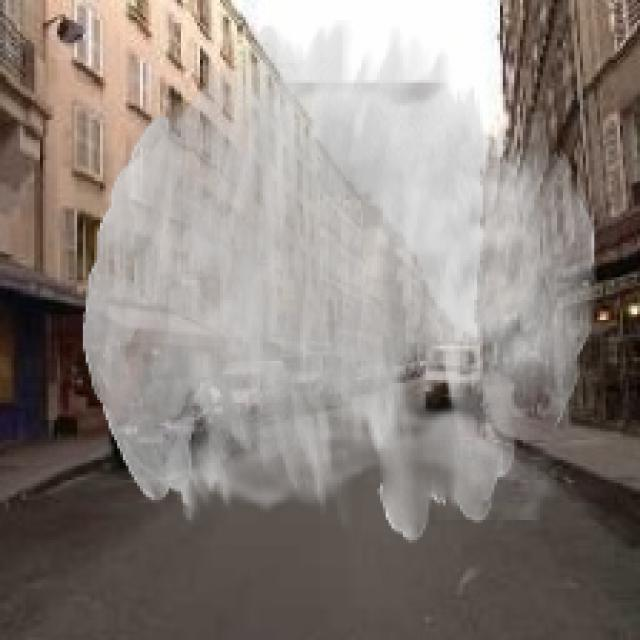Smoke: (82, 20, 598, 543)
